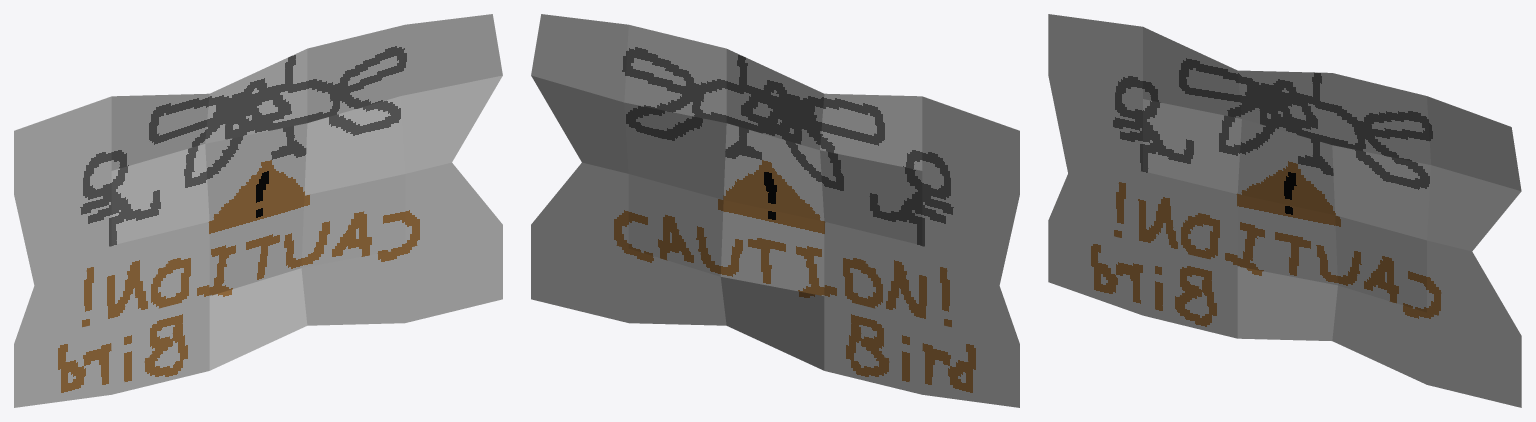
File: posterA.gltf
3 views of the same model, side by side, from view 1: azimuth 30°, elevation 25°; view 2: azimuth 150°, elevation 25°; view 3: azimuth 330°, elevation 25° (orthographic). The views are drawn at different scales.
Parts seen in each view (by area): view 1: plane; view 2: plane; view 3: plane.
Boxes of the visible parts, bbox=[...] form: plane: bbox=[14, 14, 502, 407]; plane: bbox=[531, 14, 1019, 407]; plane: bbox=[1048, 14, 1521, 407].
Size of the model in its own units: 3 by 1.75 by 0.0625.
Materials: 1 (1 with a texture image).
